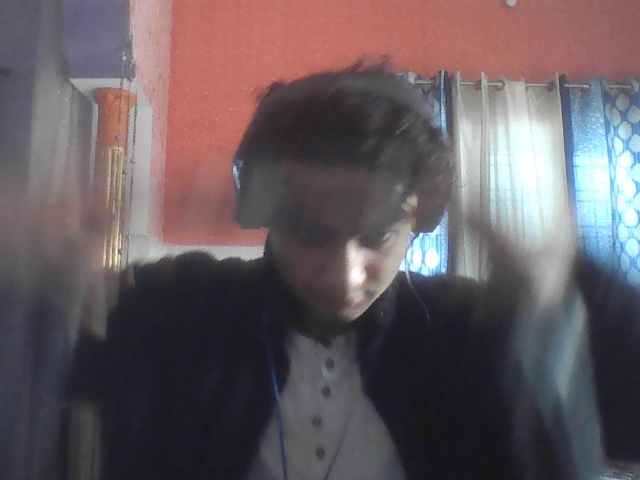real: (237, 90, 424, 355)
